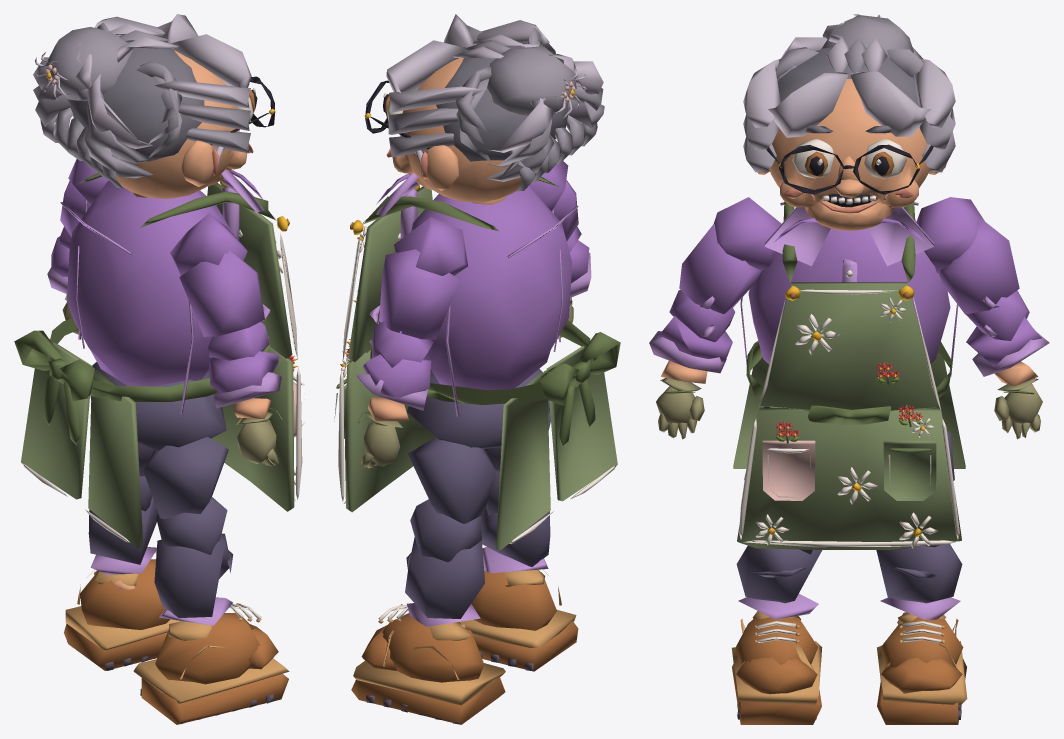
Rendered from npc.mrs-alvarez.lod1.glb.
The picture shows the model from 3 angles, left to right: view 1: azimuth 30°, elevation 25°; view 2: azimuth 150°, elevation 25°; view 3: azimuth 270°, elevation 25°; orthographic projection.
Parts seen in each view (by area): view 1: head, torso, hip, footR, footL, armR, shinR, foreArmR, legR, shinL, armL, handR (+1 smaller); view 2: head, torso, hip, footL, footR, armL, shinL, foreArmL, legL, shinR, armR, handL (+1 smaller); view 3: torso, head, hip, footR, footL, armL, armR, shinL, foreArmR, foreArmL, shinR, handR (+1 smaller).
Part boxes in pixels (x1,y1,x2,y2): head: (33, 14, 275, 198); torso: (60, 169, 297, 414); hip: (14, 317, 304, 548); footR: (133, 603, 289, 724); footL: (64, 550, 181, 670); armR: (170, 213, 270, 336); shinR: (154, 497, 233, 625); foreArmR: (208, 321, 281, 419); legR: (143, 436, 228, 518); shinL: (88, 476, 158, 574); armL: (60, 159, 109, 236); handR: (236, 407, 282, 466); head: (364, 14, 604, 204); torso: (342, 173, 578, 416); hip: (334, 320, 620, 549); footL: (351, 604, 505, 724); footR: (460, 569, 578, 671); armL: (369, 217, 467, 339); shinL: (405, 499, 484, 626); foreArmL: (356, 321, 433, 421); legL: (408, 437, 496, 523); shinR: (480, 471, 550, 573); armR: (529, 161, 578, 241); handL: (358, 410, 402, 468); torso: (740, 201, 958, 411); head: (743, 14, 955, 230); hip: (733, 341, 965, 549); footR: (731, 611, 822, 724); footL: (877, 612, 967, 724); armL: (916, 197, 1019, 314); armR: (679, 197, 781, 314); shinL: (876, 544, 962, 619); foreArmR: (649, 290, 735, 383); foreArmL: (966, 290, 1049, 386); shinR: (736, 545, 822, 619); handR: (656, 378, 704, 439).
Bounding box in the file's own units: 0.6071 × 1.69 × 0.954.
